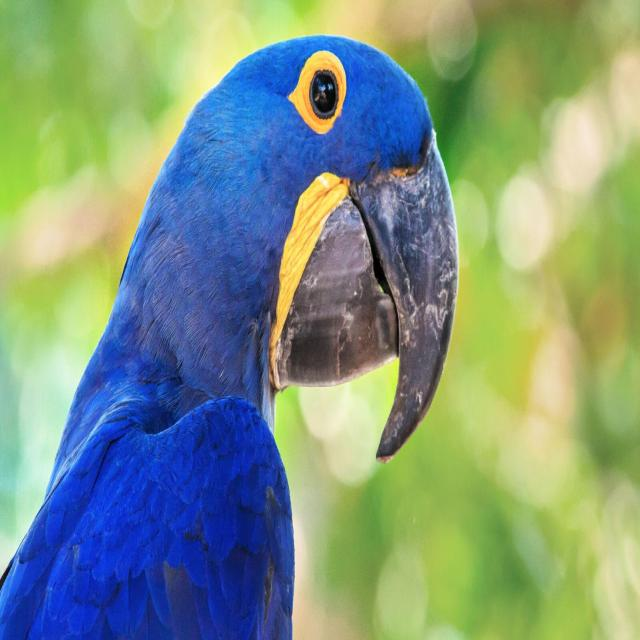Parrot: (24, 23, 460, 640)
